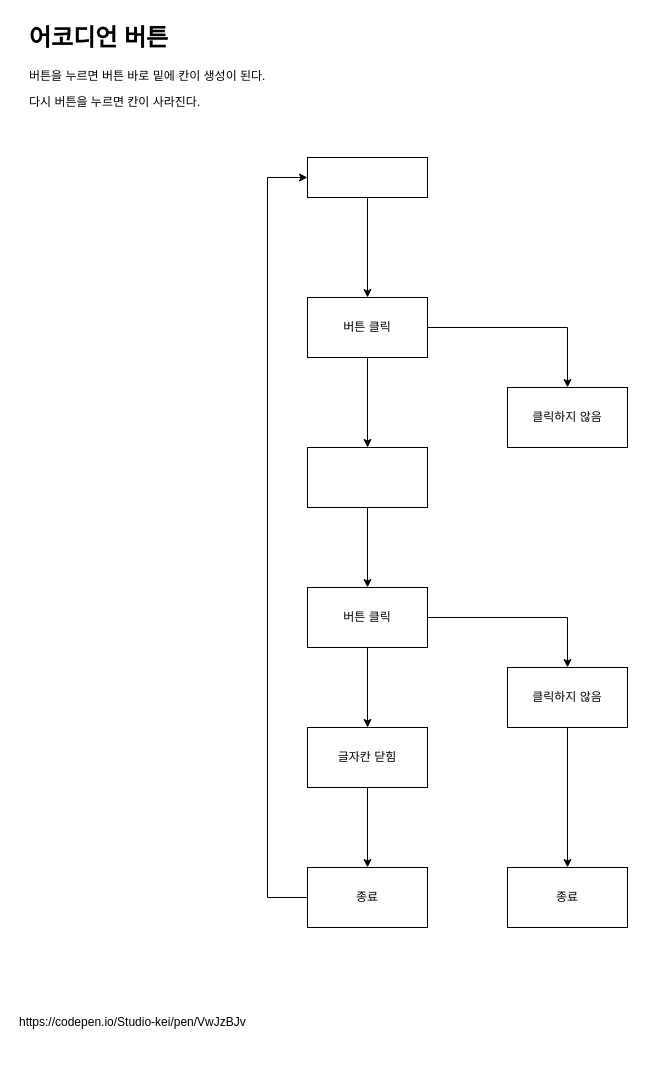
Some shapes in this 645 by 1067 pixel diagram are drawn without their labels. Here are the shapes that lost their labels. From the top down, the box of each, then its label:
(306, 156, 428, 198): 시작
(306, 446, 428, 508): 글자칸이 펼쳐진다
